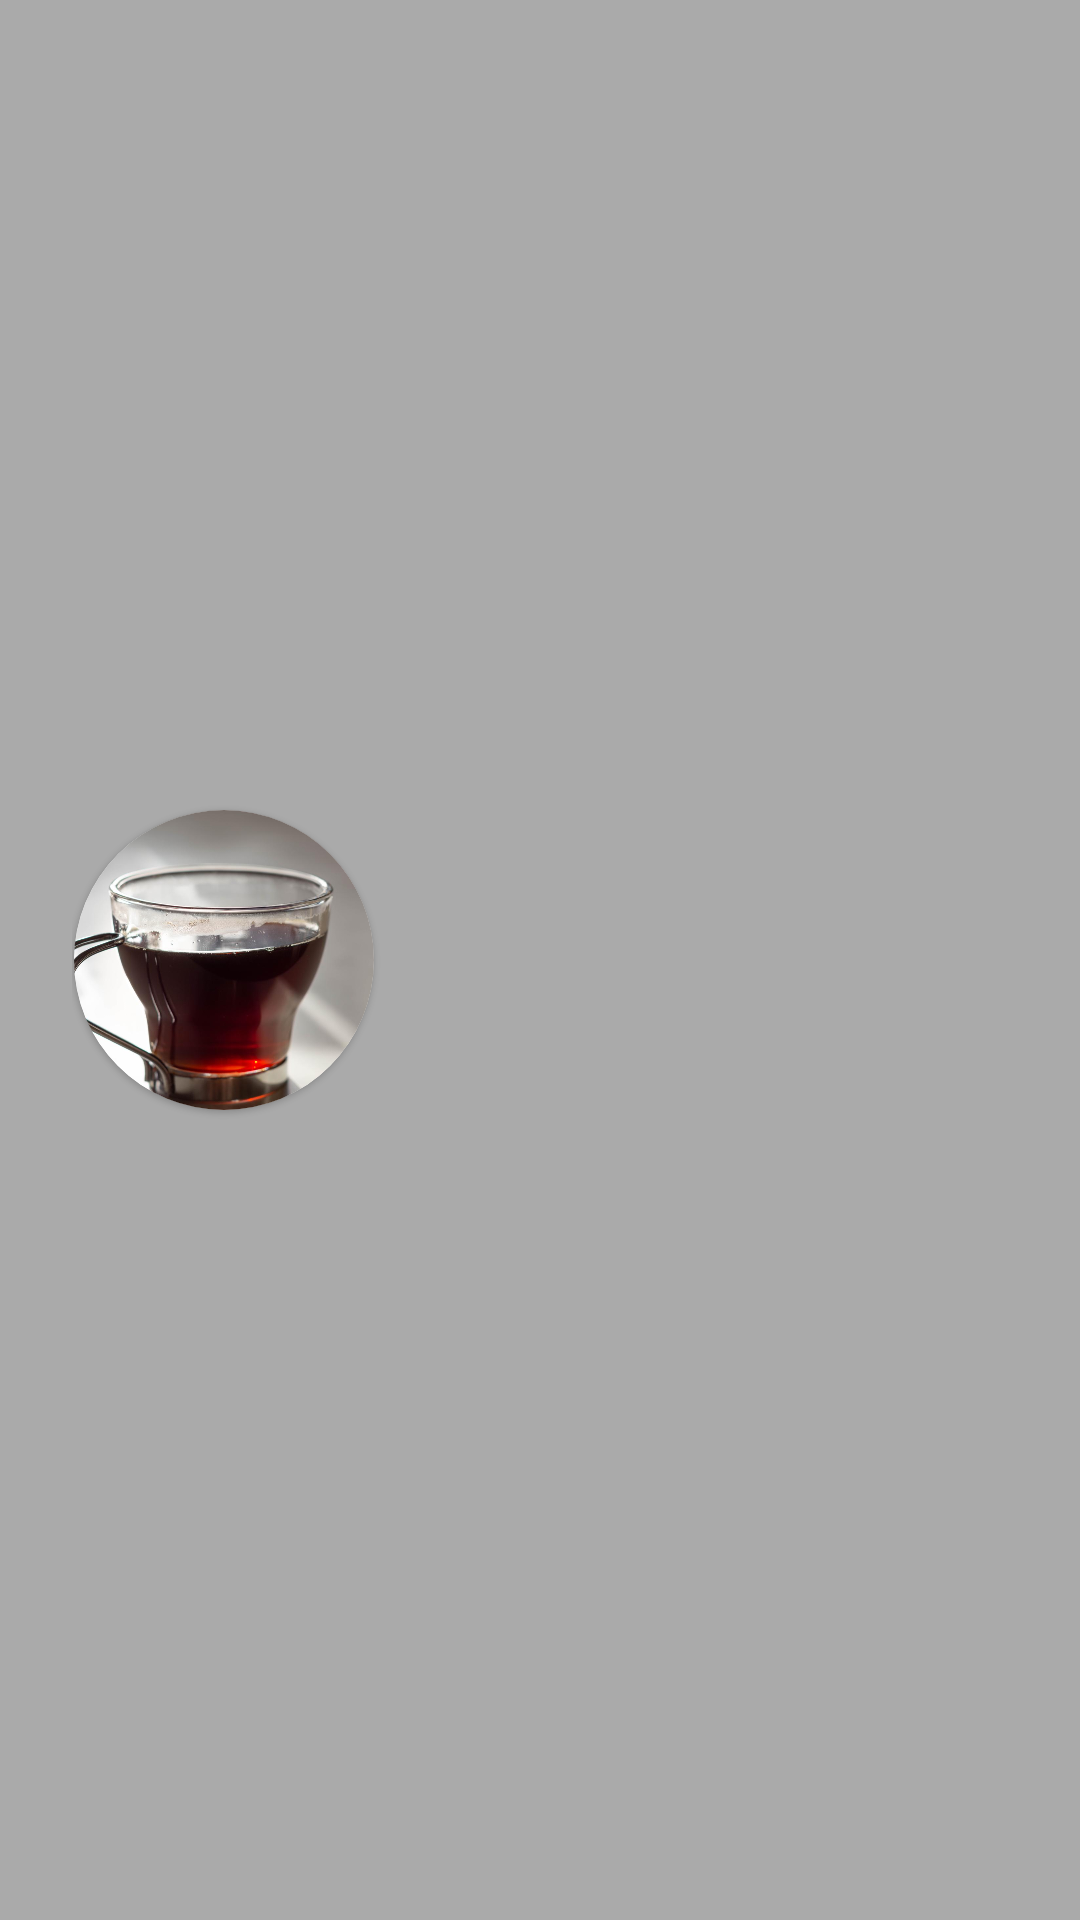

Screen size 1080px x 1920px. Icon name, then its center in pixels as [x,y]:
tea: [222,960]
